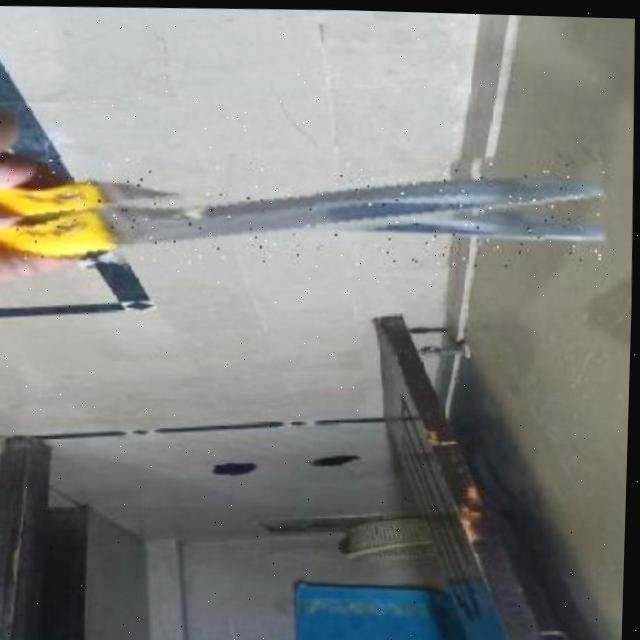knife: (0, 146, 610, 275)
